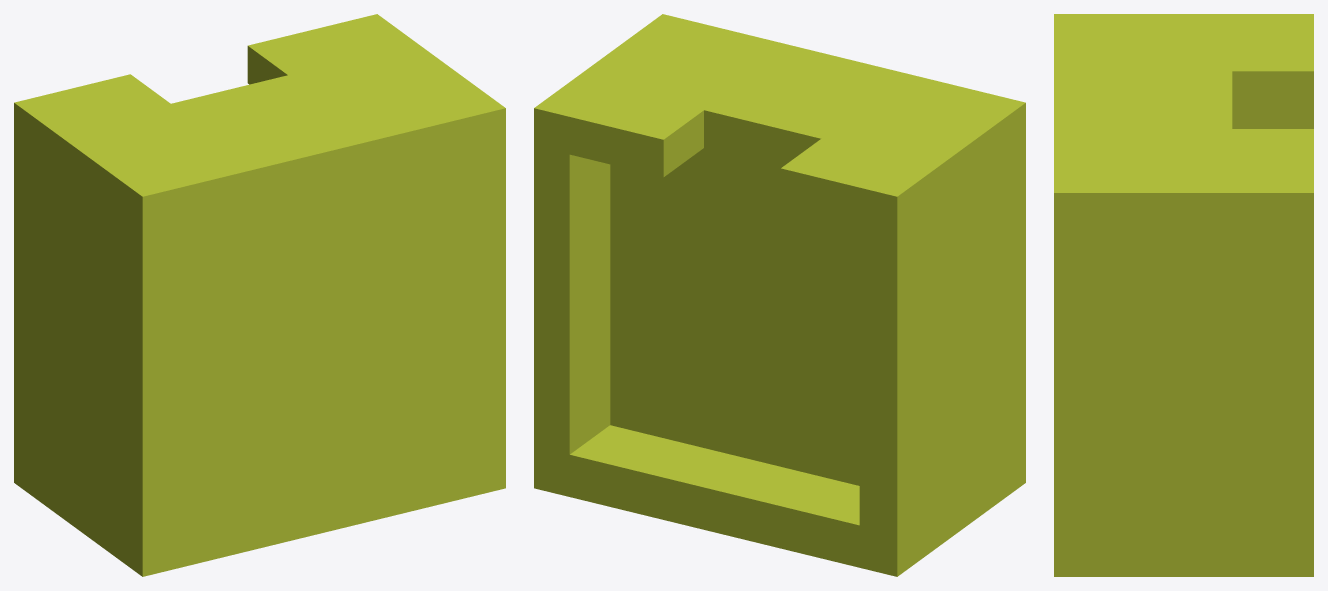
Rendered from StageStartAndGoal.fbx.
The picture shows the model from 3 angles, left to right: view 1: azimuth 30°, elevation 25°; view 2: azimuth 150°, elevation 25°; view 3: azimuth 270°, elevation 25°; orthographic projection.
Visible parts, largest first — view 1: StageStartandGoal; view 2: StageStartandGoal; view 3: StageStartandGoal.
Part boxes in pixels (x1,y1,x2,y2): StageStartandGoal: [14, 14, 505, 576]; StageStartandGoal: [534, 14, 1025, 576]; StageStartandGoal: [1054, 14, 1313, 576].
Size of the model in its own units: 200 by 200 by 123.
